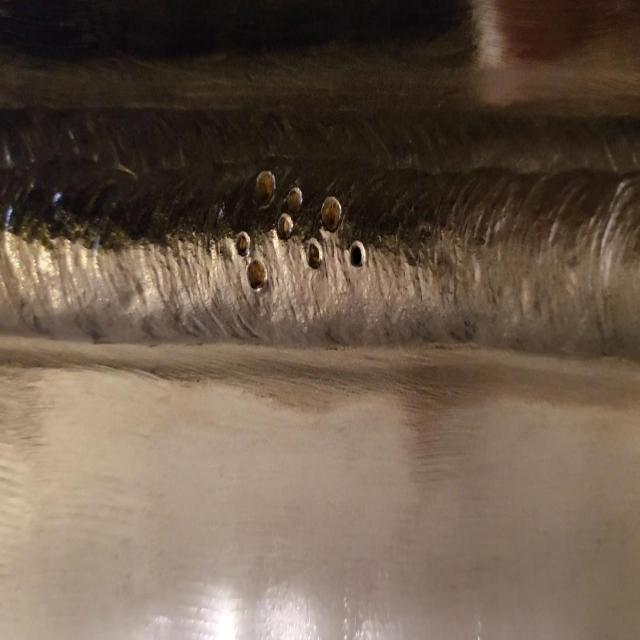Welding Line: (0, 126, 637, 348)
porosity: (235, 168, 366, 291)
